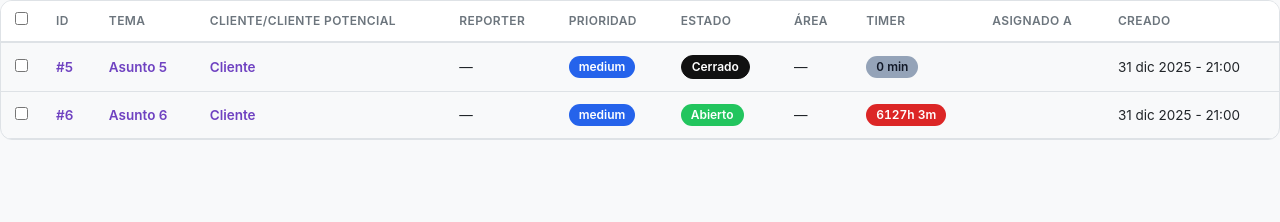
TicketsTableView — bulk Archivar › "Archivar" is disabled when at least one selected ticket is NOT closed
The image size is (1280, 222).
What coordinates should you click on to do the following:
click the checkbox named "Seleccionar todos"
I would click on:
 (22, 18)
Its box is [15,12,28,25].
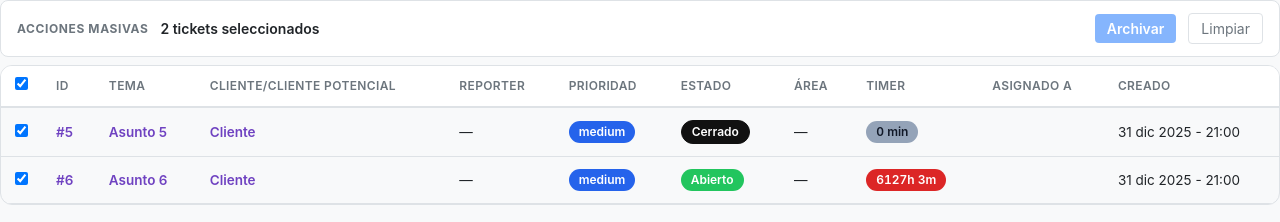
Now the button "Archivar" is disabled, box [1095,14,1176,43]
